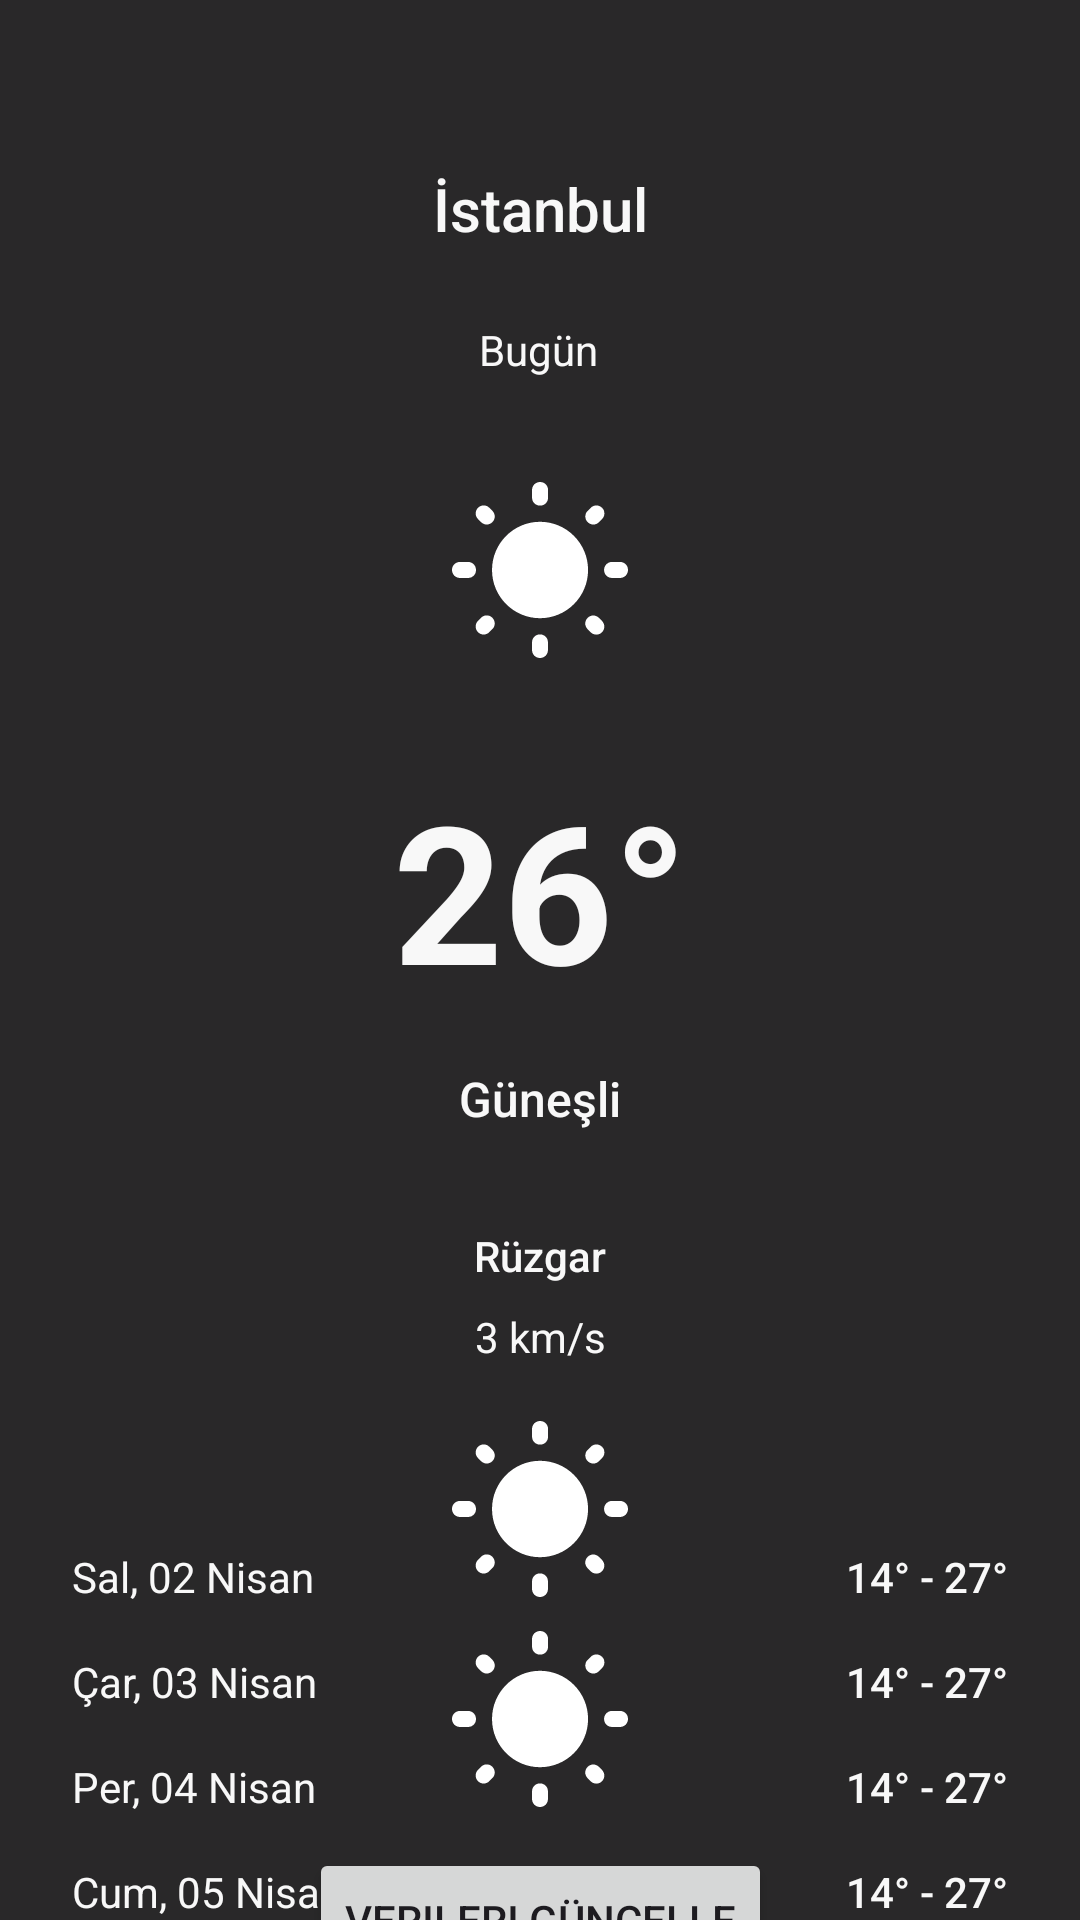

Screen size 1080px×1920px. Icon name, then its center in pixels as (x=x, y=y):
tuesday weather: (x=540, y=1509)
weather situation image: (x=540, y=570)
